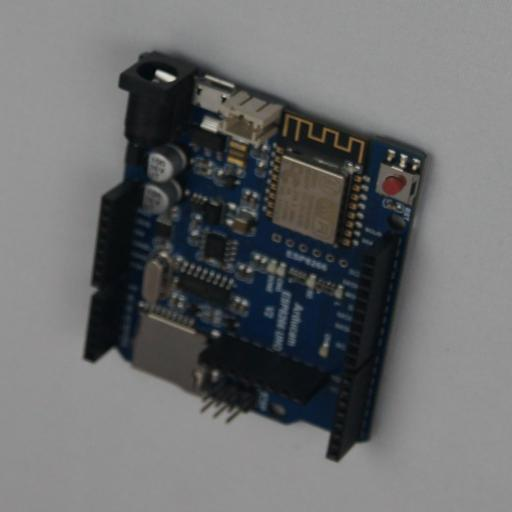Arduino Uno Camera Shield: (83, 51, 431, 462)
